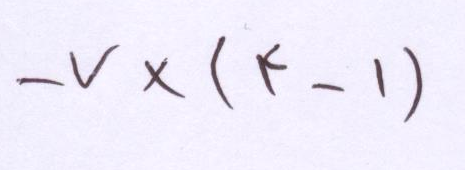character: (69, 44, 119, 89), (210, 36, 234, 109), (143, 58, 185, 97), (256, 44, 286, 94), (403, 47, 422, 122), (16, 78, 72, 99), (311, 83, 350, 98), (374, 58, 385, 98)
